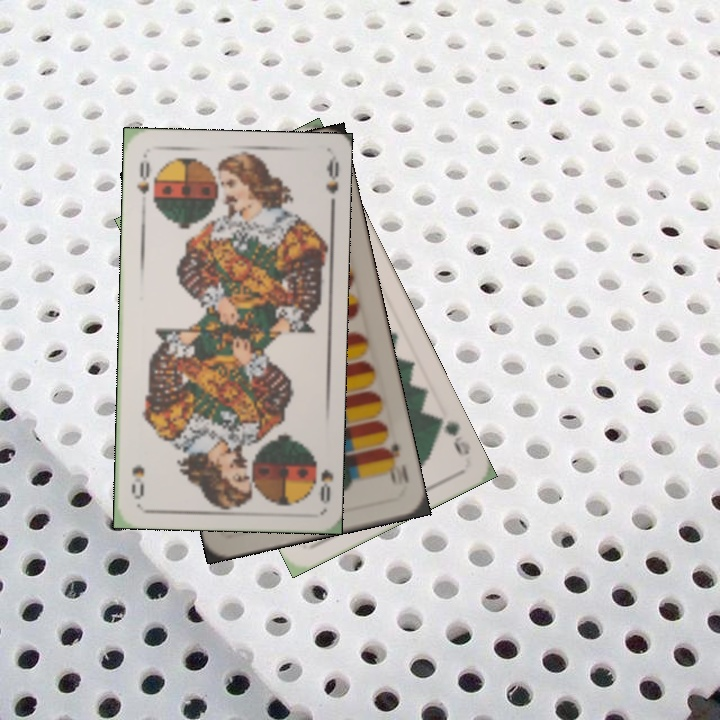E10: (379, 439, 412, 486)
G9: (430, 412, 473, 459)
SO: (307, 451, 335, 507), (132, 158, 153, 197)
